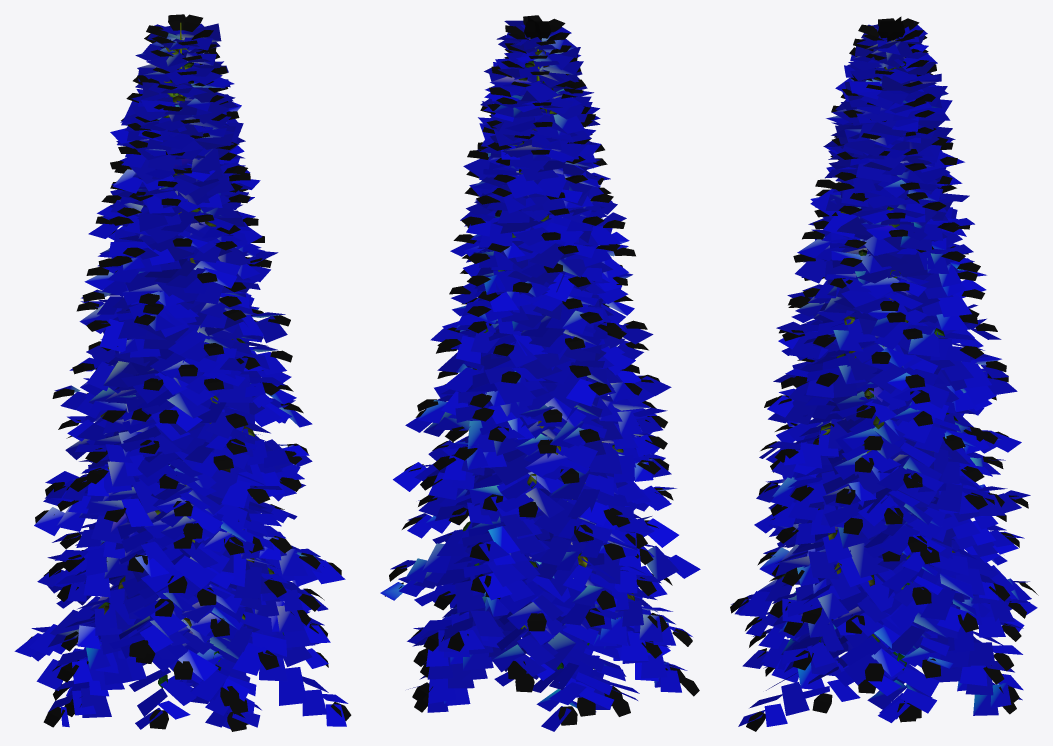
Rendered from tree_spruce_3.glb.
3 renders of one model, left to right at view 1: azimuth 30°, elevation 25°; view 2: azimuth 150°, elevation 25°; view 3: azimuth 270°, elevation 25°, orthographic.
Visible parts, largest first — view 1: lod1_spruce_3; view 2: lod1_spruce_3; view 3: lod1_spruce_3.
Part boxes in pixels (left/top/right/bottom): lod1_spruce_3: left=14, top=14, right=351, bottom=731; lod1_spruce_3: left=380, top=15, right=700, bottom=731; lod1_spruce_3: left=730, top=16, right=1038, bottom=731.
Size of the model in its own units: 8.05 by 18.3 by 7.71.
